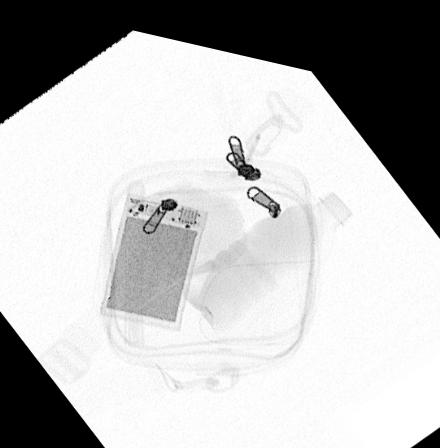Powerbank: (99, 185, 208, 322)
